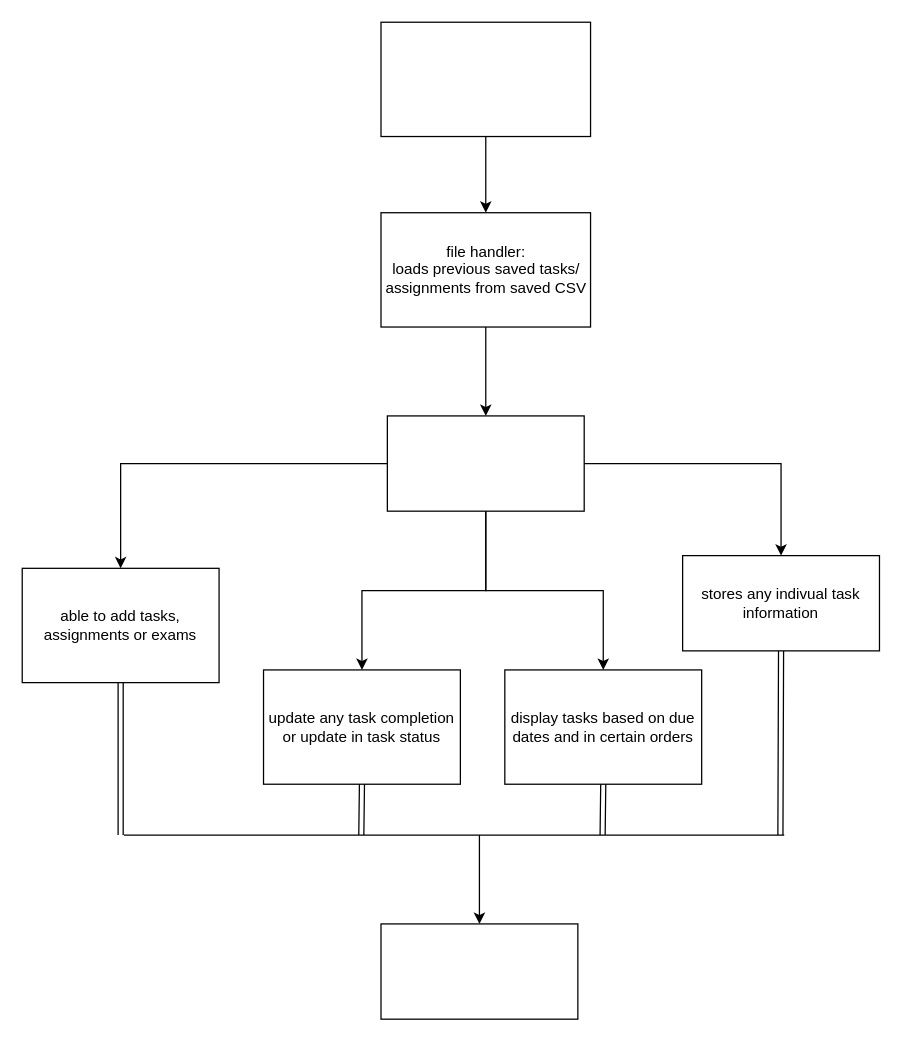
This 902x1041 diagram has some shape labels left out. The centre of each missing label's shape, as x and y in pixels:
"main program display and recieves user input" belongs at (485,79).
"manages the list of tasks using ArrayLists" belongs at (485,463).
"save all the updated task information and runs tasks for future programs" belongs at (479,971).
